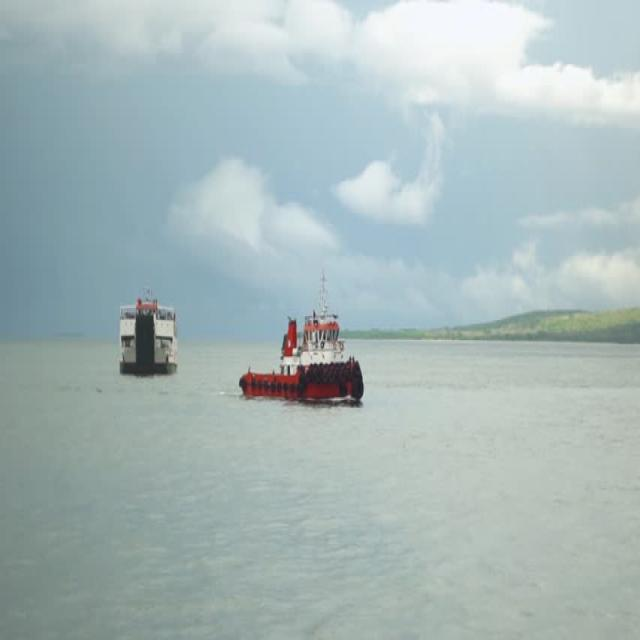fishing boat: (234, 286, 368, 431), (108, 280, 176, 379)
